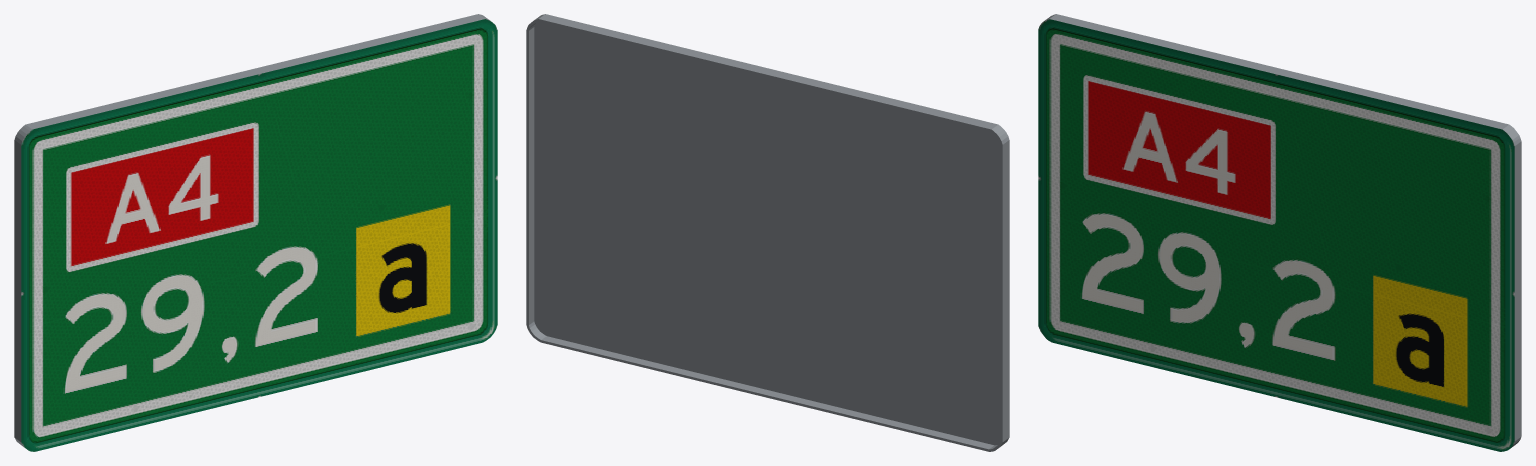
3 renders of one model, left to right at view 1: azimuth 30°, elevation 25°; view 2: azimuth 150°, elevation 25°; view 3: azimuth 330°, elevation 25°, orthographic.
Visible parts, largest first — view 1: cat_b0aa5d3d1085edf2; view 2: cat_b0aa5d3d1085edf2; view 3: cat_b0aa5d3d1085edf2.
Part boxes in pixels (left/top/right/bottom): cat_b0aa5d3d1085edf2: left=14, top=14, right=497, bottom=451; cat_b0aa5d3d1085edf2: left=526, top=14, right=1009, bottom=451; cat_b0aa5d3d1085edf2: left=1038, top=14, right=1521, bottom=451.
Bounding box in the file's own units: 0.6 × 0.015 × 0.3889.
Materials: 2 (1 with a texture image).
